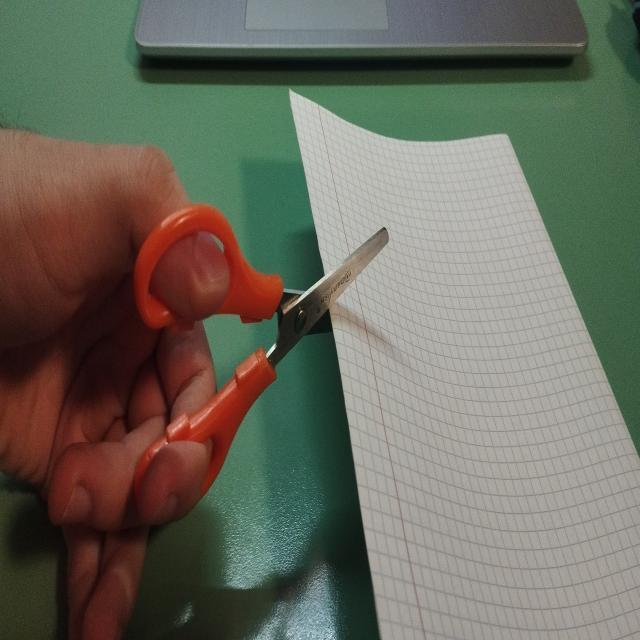tesoura: (129, 193, 392, 534)
